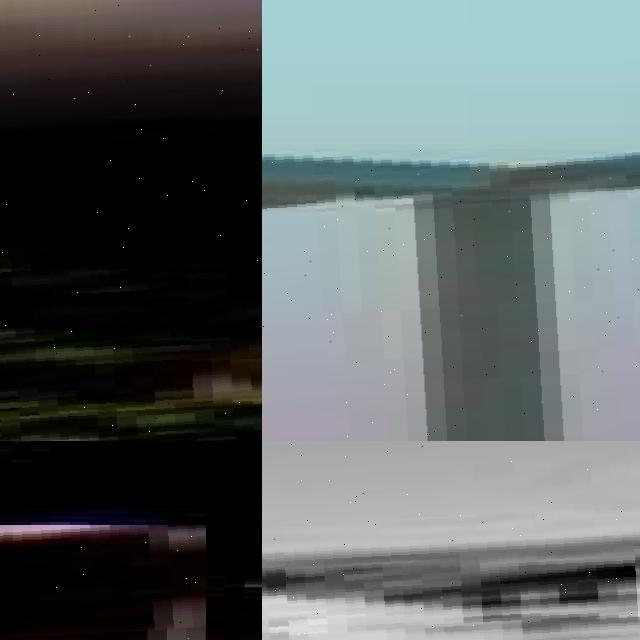street light: (0, 0, 262, 441), (262, 149, 640, 441), (262, 441, 640, 640), (0, 441, 262, 640), (0, 525, 205, 640)
